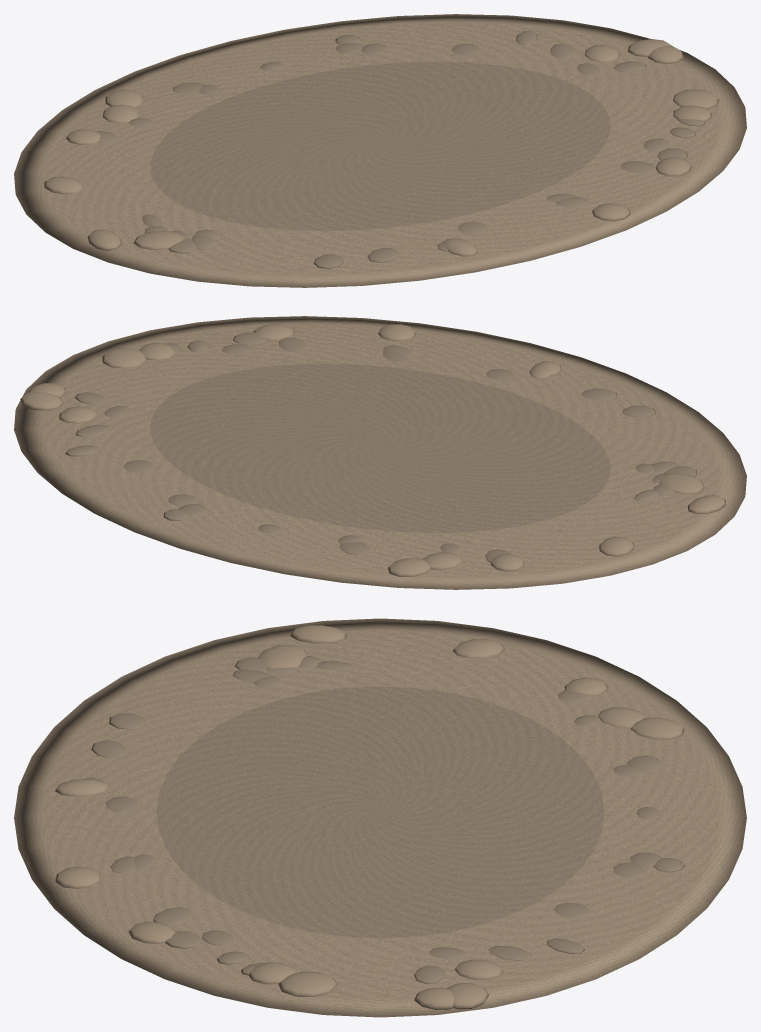
The model's file is exotic-wildlife-hd-waterhole-98af45b4__30227.glb.
The picture shows the model from 3 angles, top to bottom: view 1: azimuth 30°, elevation 25°; view 2: azimuth 150°, elevation 25°; view 3: azimuth 270°, elevation 25°; orthographic projection. The views are drawn at different scales.
Visible parts, largest first — view 1: waterhole; view 2: waterhole; view 3: waterhole.
Part boxes in pixels (x1=…): waterhole: x1=14, y1=14, x2=746, y2=287; waterhole: x1=14, y1=316, x2=746, y2=589; waterhole: x1=14, y1=618, x2=746, y2=1017.
Bounding box in the file's own units: 15.2 × 0.3006 × 11.8.
3 materials, 2 textured.
